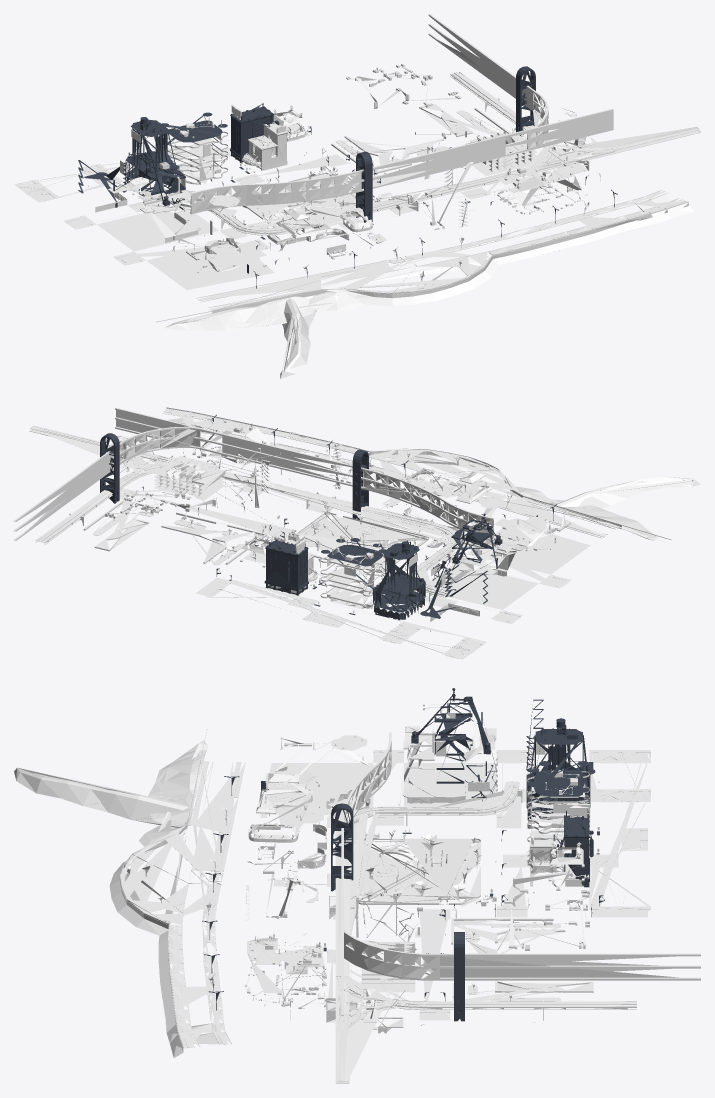
The model's file is street_island1_04.glb.
The picture shows the model from 3 angles, top to bottom: view 1: azimuth 30°, elevation 25°; view 2: azimuth 150°, elevation 25°; view 3: azimuth 270°, elevation 25°; orthographic projection. The views are drawn at different scales.
Visible parts, largest first — view 1: seg_693, seg_677, seg_688, seg_1484, seg_1344, seg_1367, seg_1485, seg_1483, seg_1343, seg_1104, seg_1359, seg_1285 (+26 smaller); view 2: seg_693, seg_1483, seg_1367, seg_677, seg_1515, seg_1344, seg_1485, seg_1484, seg_660, seg_1399, seg_1292, seg_1101 (+29 smaller); view 3: seg_1367, seg_693, seg_677, seg_1515, seg_1483, seg_688, seg_1485, seg_1104, seg_1292, seg_1484, seg_1479, seg_530 (+30 smaller).
Boxes of the visible parts, <box> form: seg_693: <box>196,242,498,313</box>; seg_677: <box>164,291,362,378</box>; seg_688: <box>475,190,693,264</box>; seg_1484: <box>146,240,274,289</box>; seg_1344: <box>361,135,505,191</box>; seg_1367: <box>428,14,548,148</box>; seg_1485: <box>97,205,218,251</box>; seg_1483: <box>14,119,309,229</box>; seg_1343: <box>505,108,613,156</box>; seg_1104: <box>525,127,700,171</box>; seg_1359: <box>276,170,361,204</box>; seg_1285: <box>498,143,581,206</box>; seg_693: <box>369,449,623,538</box>; seg_1483: <box>195,577,522,659</box>; seg_1367: <box>14,426,200,541</box>; seg_677: <box>507,476,700,543</box>; seg_1515: <box>291,512,428,572</box>; seg_1344: <box>221,433,363,488</box>; seg_1485: <box>430,563,538,609</box>; seg_1484: <box>467,528,590,574</box>; seg_660: <box>154,456,225,500</box>; seg_1399: <box>264,541,308,595</box>; seg_1292: <box>321,538,423,611</box>; seg_1101: <box>223,472,458,546</box>; seg_1367: <box>344,927,700,980</box>; seg_693: <box>109,761,245,935</box>; seg_677: <box>14,740,207,846</box>; seg_1515: <box>358,838,480,904</box>; seg_1483: <box>496,750,650,917</box>; seg_688: <box>158,924,231,1057</box>; seg_1485: <box>404,763,496,814</box>; seg_1104: <box>327,976,398,1083</box>; seg_1292: <box>528,729,588,810</box>; seg_1484: <box>261,763,373,814</box>; seg_1479: <box>327,909,450,1022</box>; seg_530: <box>451,918,565,953</box>.
Bounding box in the file's own units: 559 × 80.83 × 445.
